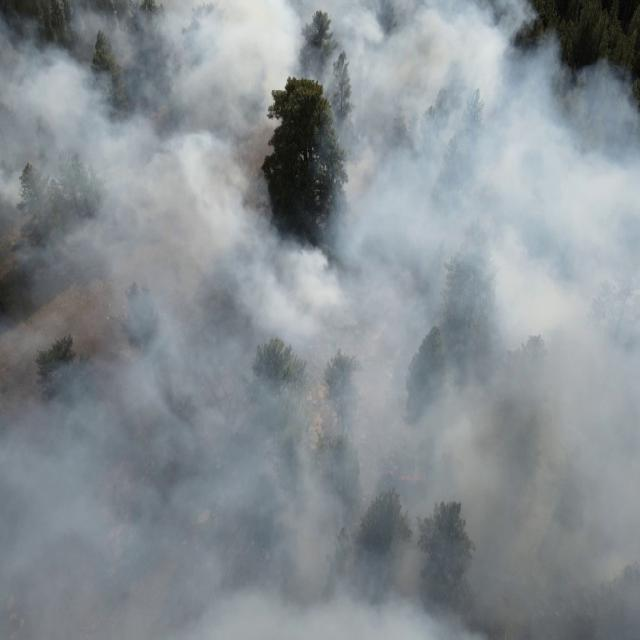fire: (397, 470, 429, 485)
smoke: (320, 81, 640, 640), (0, 0, 262, 640), (261, 207, 320, 640), (260, 0, 540, 80), (540, 28, 570, 82), (578, 58, 634, 82), (262, 80, 282, 134)
